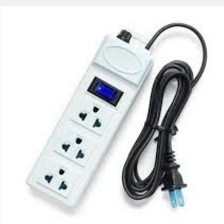three_eye_plug: (23, 27, 157, 210)
